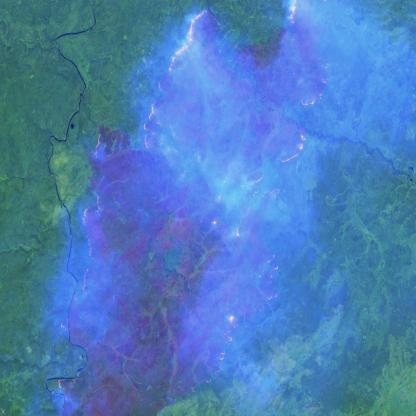fire: (134, 0, 339, 252), (191, 261, 298, 416)
